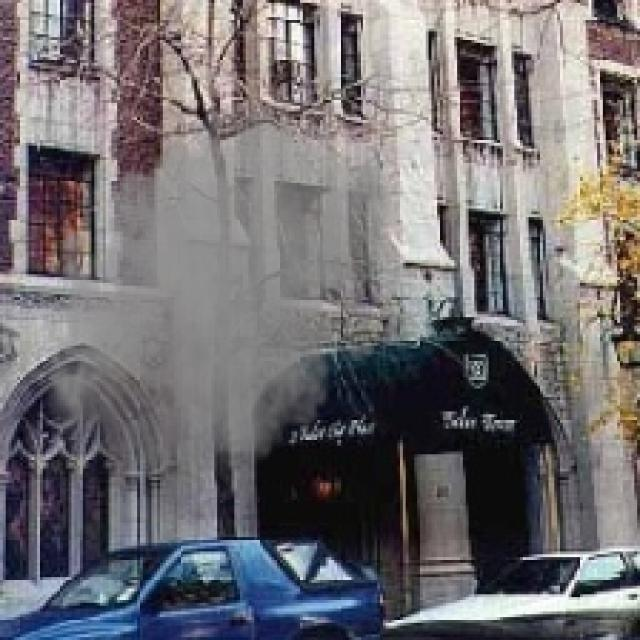Smoke: (34, 92, 400, 514)
